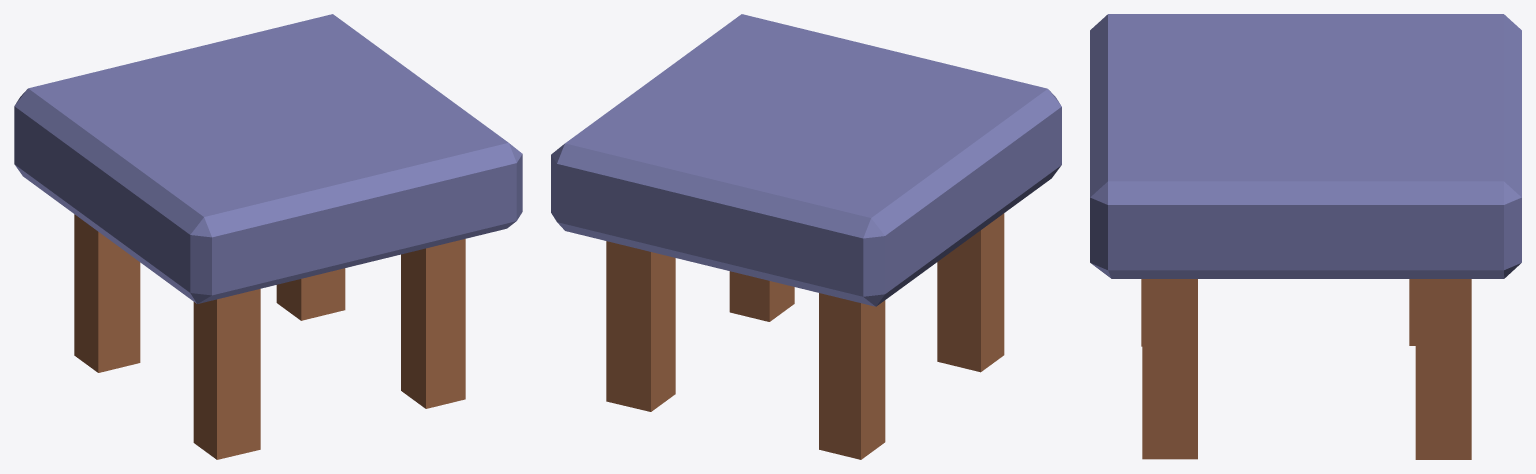
Rendered from maidstage2_chair.fbx.
The picture shows the model from 3 angles, left to right: view 1: azimuth 30°, elevation 25°; view 2: azimuth 150°, elevation 25°; view 3: azimuth 270°, elevation 25°; orthographic projection. The views are drawn at different scales.
Visible parts, largest first — view 1: chair; view 2: chair; view 3: chair.
Boxes of the visible parts, bbox=[...] form: chair: bbox=[14, 14, 522, 459]; chair: bbox=[551, 14, 1061, 459]; chair: bbox=[1090, 14, 1521, 459].
Size of the model in its own units: 400 by 300 by 400.
